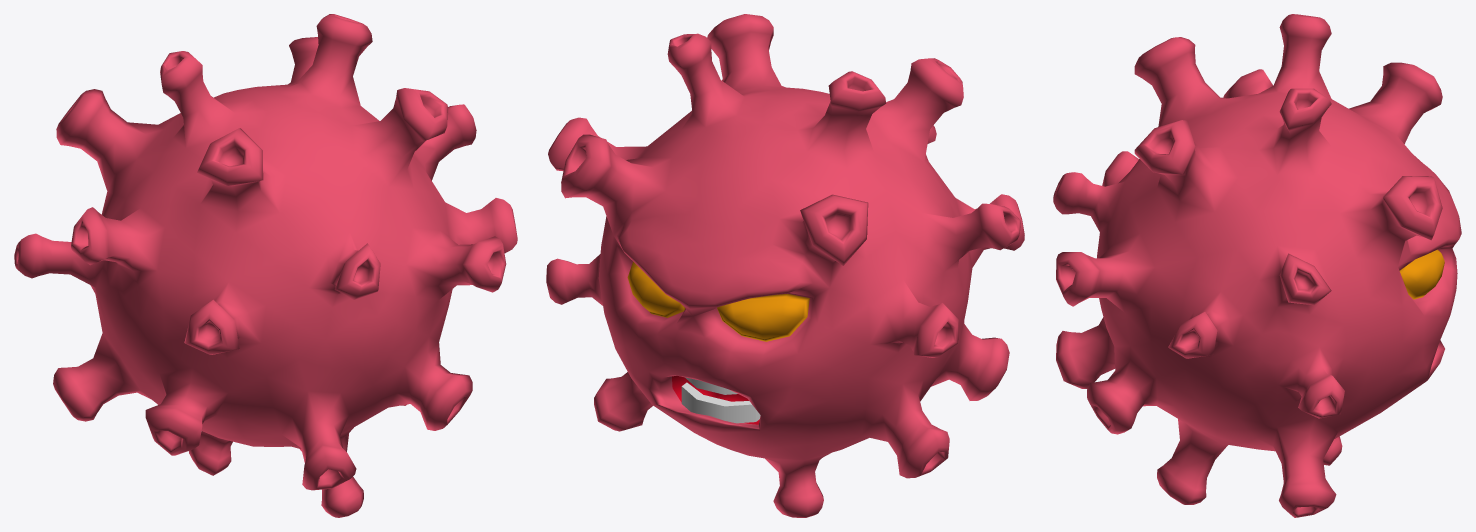
File: CoronaAnim.fbx
3 renders of one model, left to right at view 1: azimuth 30°, elevation 25°; view 2: azimuth 150°, elevation 25°; view 3: azimuth 270°, elevation 25°, orthographic. The views are drawn at different scales.
Parts seen in each view (by area): view 1: pPlatonic1; view 2: pPlatonic1, pCube2; view 3: pPlatonic1.
Boxes of the visible parts, x1,y1,x2,y2 form: pPlatonic1: (14, 14, 517, 517); pPlatonic1: (546, 14, 1024, 517); pCube2: (681, 382, 760, 423); pPlatonic1: (1053, 14, 1461, 517).
Size of the model in its own units: 4.24 by 4.24 by 3.59.
